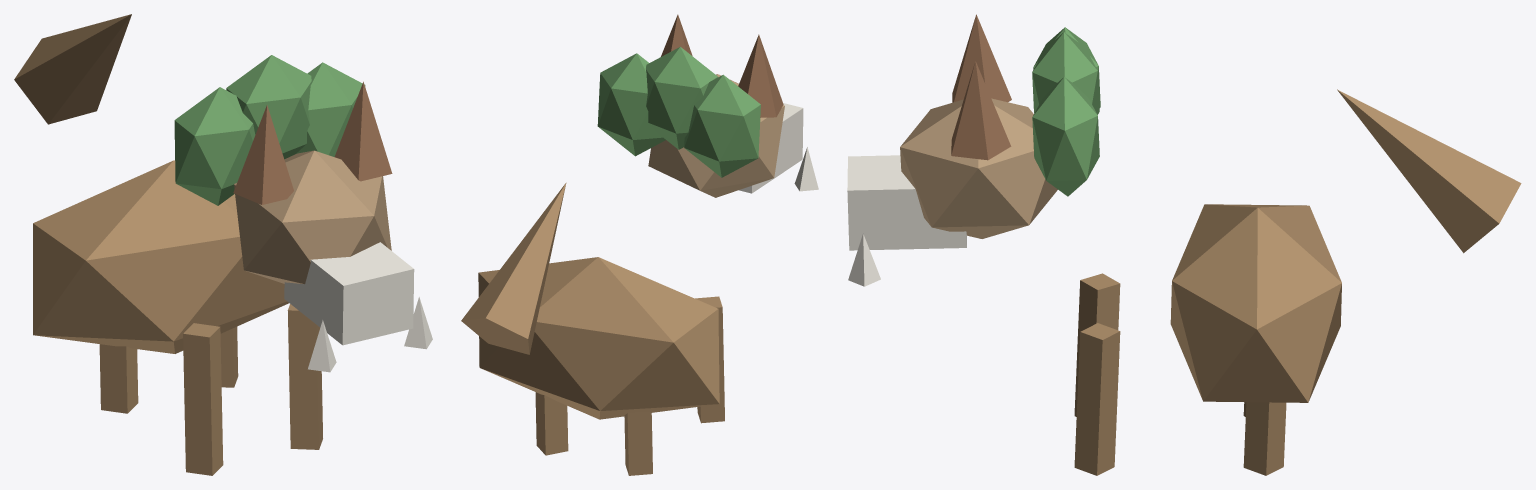
Rendered from npcpose_wolf_attack_01.glb.
3 views of the same model, side by side, from view 1: azimuth 30°, elevation 25°; view 2: azimuth 150°, elevation 25°; view 3: azimuth 270°, elevation 25° (orthographic). The views are drawn at different scales.
Visible parts, largest first — view 1: npcpose; view 2: npcpose; view 3: npcpose.
Boxes of the visible parts, x1=… form: npcpose: x1=14, y1=14, x2=432, y2=475; npcpose: x1=461, y1=14, x2=818, y2=475; npcpose: x1=847, y1=14, x2=1521, y2=475.
Bounding box in the file's own units: 0.8873 × 1.23 × 1.83.
